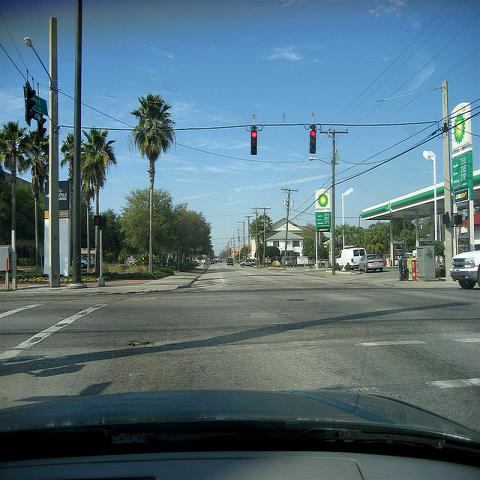car: (2, 394, 480, 479), (450, 250, 480, 288), (335, 248, 366, 270), (359, 254, 384, 273), (240, 258, 256, 268), (81, 257, 95, 268), (281, 257, 293, 267), (271, 259, 281, 267), (227, 257, 234, 266), (212, 260, 214, 264)
